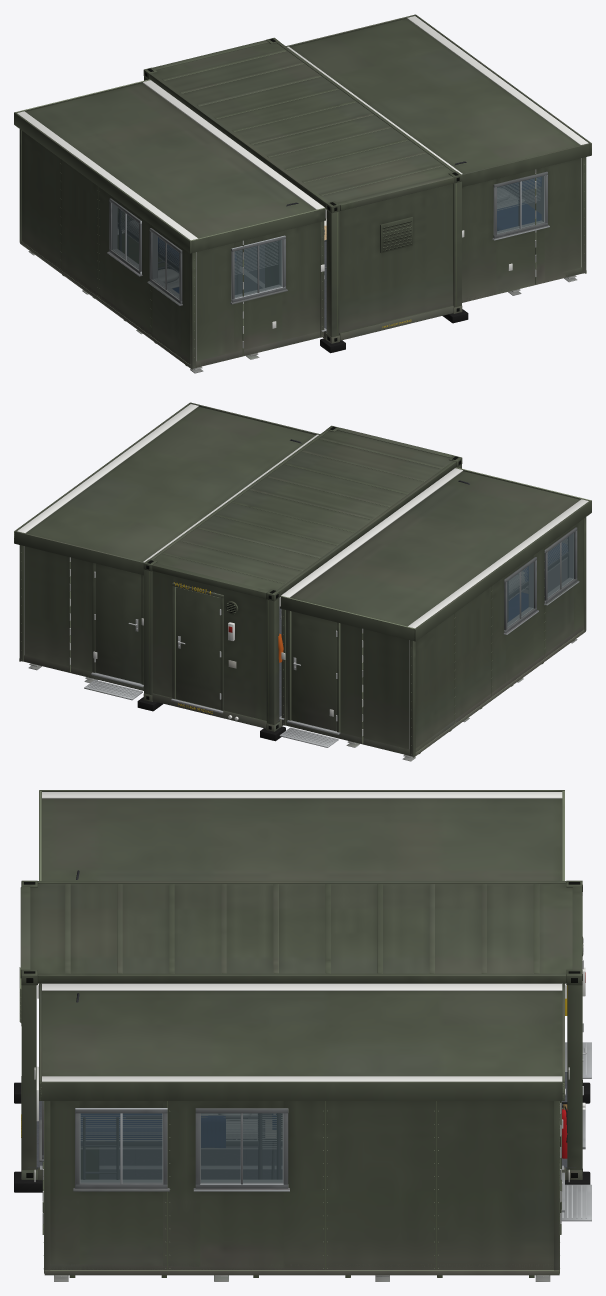
Rendered from hercon-deployed-fitted.glb.
The picture shows the model from 3 angles, top to bottom: view 1: azimuth 30°, elevation 25°; view 2: azimuth 150°, elevation 25°; view 3: azimuth 270°, elevation 25°; orthographic projection. The views are drawn at different scales.
Visible parts, largest first — view 1: HERCON_expansion_L, HERCON_core, HERCON_expansion_R, HERCON_fitout; view 2: HERCON_expansion_L, HERCON_core, HERCON_expansion_R, HERCON_fitout; view 3: HERCON_expansion_R, HERCON_core, HERCON_expansion_L, HERCON_fitout, HERCON_interior.
Part boxes in pixels (x1,y1,x2,y2): HERCON_expansion_L: (14, 79, 325, 373); HERCON_core: (143, 37, 468, 353); HERCON_expansion_R: (286, 14, 591, 302); HERCON_fitout: (118, 161, 540, 333); HERCON_expansion_L: (279, 467, 591, 761); HERCON_core: (137, 425, 462, 741); HERCON_expansion_R: (14, 402, 319, 700); HERCON_fitout: (277, 439, 568, 721); HERCON_expansion_R: (39, 983, 591, 1281); HERCON_core: (14, 880, 590, 1192); HERCON_expansion_L: (39, 790, 591, 1078); HERCON_fitout: (28, 870, 575, 1179); HERCON_interior: (34, 983, 569, 1182).
Bounding box in the file's own units: 7.48 × 2.56 × 6.24.
48 materials, 18 textured.
